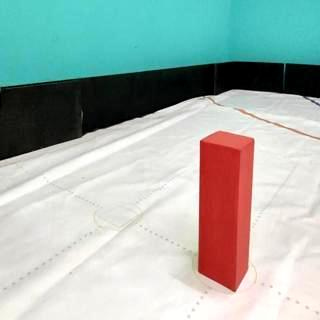redbox: (197, 129, 254, 292)
